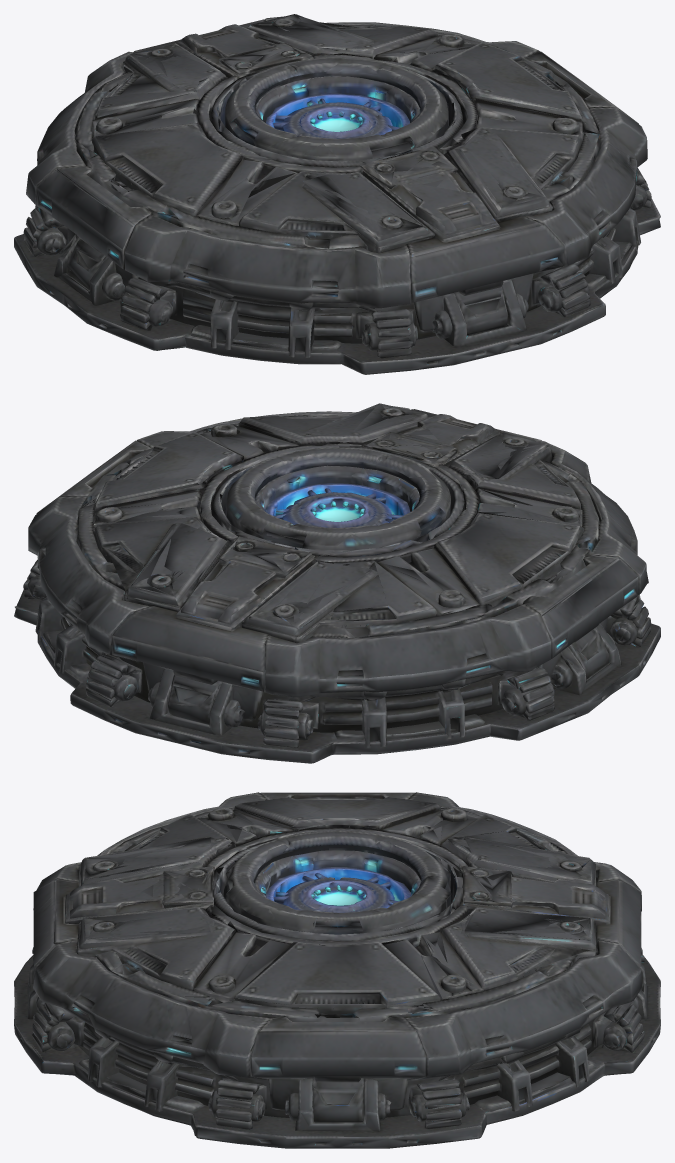
The model's file is Meshy_AI_Arc_Reactor_Core_1019185506_texture.fbx.
3 renders of one model, top to bottom at view 1: azimuth 30°, elevation 25°; view 2: azimuth 150°, elevation 25°; view 3: azimuth 270°, elevation 25°, orthographic.
Parts seen in each view (by area): view 1: Mesh_0; view 2: Mesh_0; view 3: Mesh_0.
Part boxes in pixels (bbox=[...]): Mesh_0: bbox=[14, 14, 660, 374]; Mesh_0: bbox=[14, 403, 660, 763]; Mesh_0: bbox=[14, 792, 660, 1148].
Size of the model in its own units: 94.78 by 22.66 by 95.26.
Materials: 1 (1 with a texture image).
